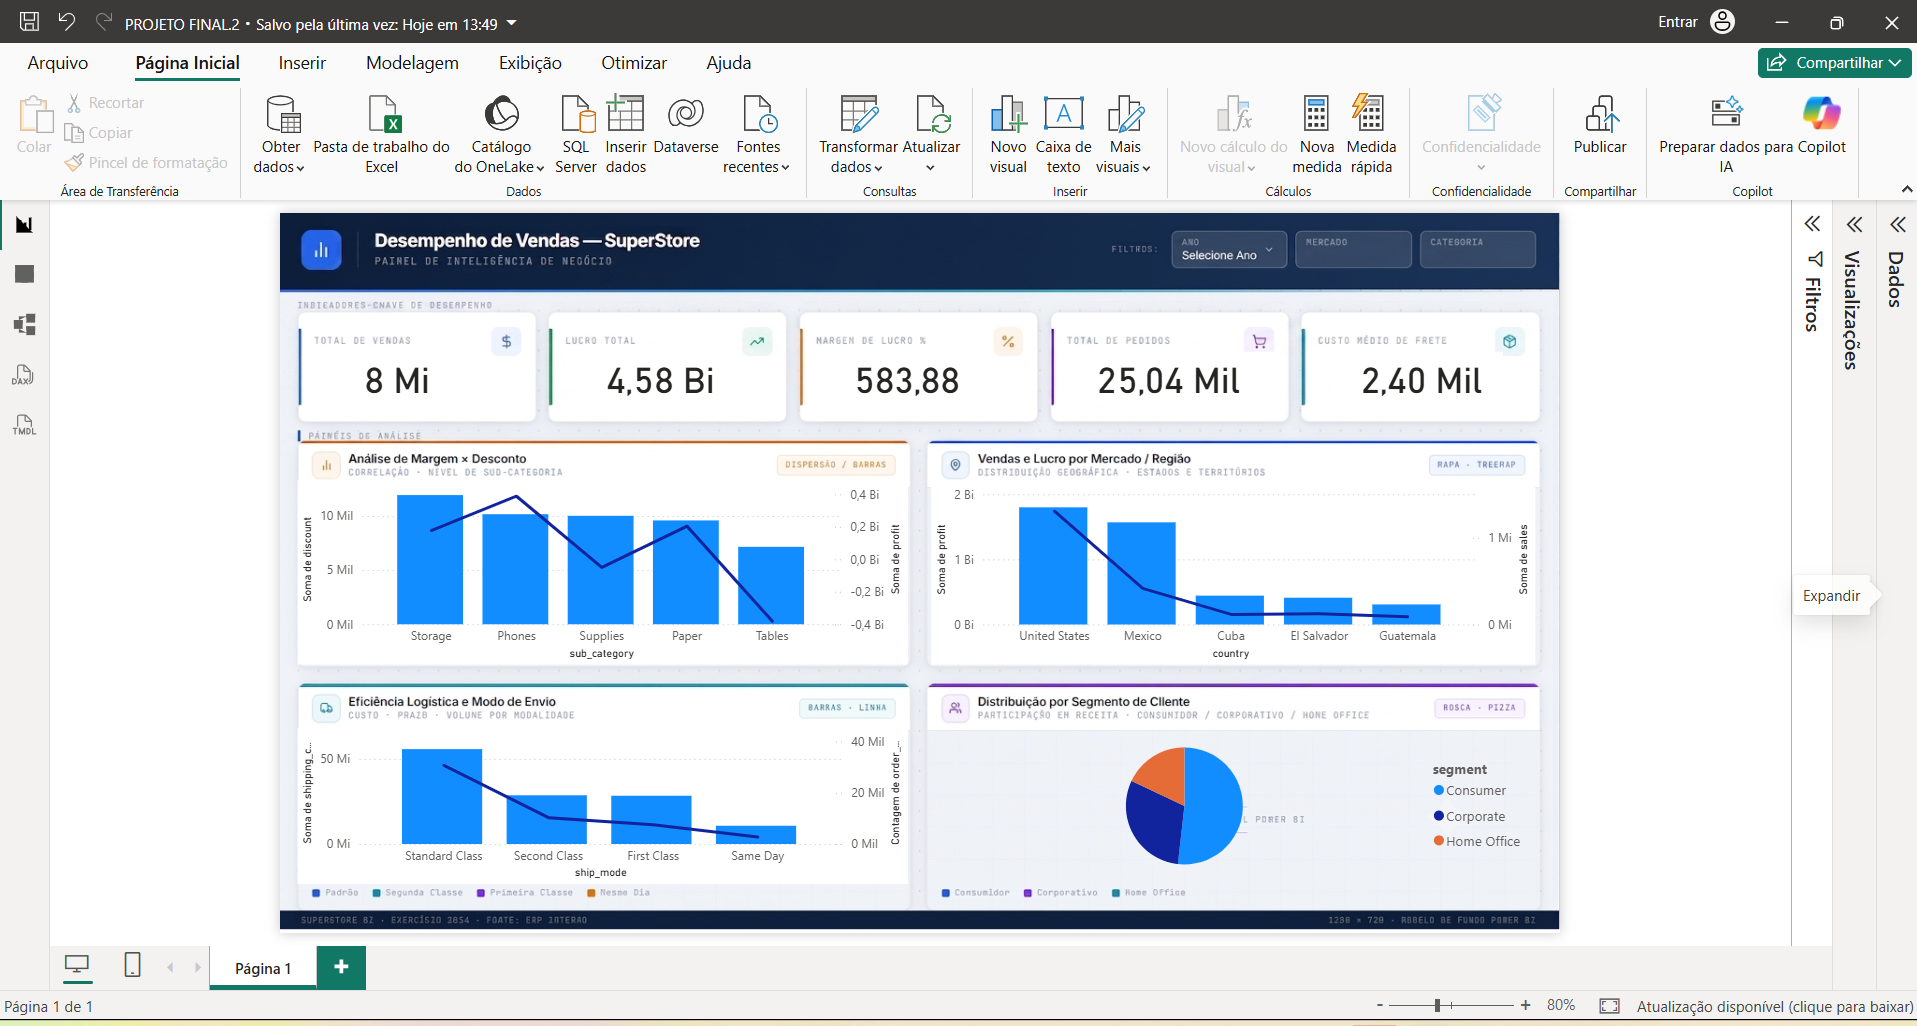

This screenshot's page, from the dashboard's own definition file:
{"tool":"powerbi","page":{"name":"Página 1","canvas":[1280,720],"ordinal":0},"visuals":[{"type":"pieChart","fields":{"Category":["DIM_CLIENTE.segment"],"Y":["Sum(FATO_VENDA.sales)"]},"box":[651.2,515,603.8,156.2],"z":0},{"type":"card","fields":{"Values":["Sum(FATO_VENDA.sales)"]},"box":[27.5,138.8,180,51.2],"z":1000},{"type":"card","fields":{"Values":["Sum(FATO_VENDA.profit)"]},"box":[303.8,138.8,153.8,51.2],"z":2000},{"type":"card","fields":{"Values":["Count(FATO_VENDA.order_id)"]},"box":[782.5,138.8,212.5,51.2],"z":3000},{"type":"card","fields":{"Values":["Avg(FATO_VENDA.shipping_cost)"]},"box":[1061.2,138.8,161.2,51.2],"z":4000},{"type":"card","fields":{"Values":["DIM_CALENDARIO.Margem %"]},"box":[543.8,138.8,166.2,51.2],"z":5000},{"type":"lineStackedColumnComboChart","fields":{"Category":["DIM_PRODUTO.sub_category"],"Y2":["Sum(FATO_VENDA.profit)"],"Y":["Sum(FATO_VENDA.discount)"]},"box":[17.5,267.5,610,183.8],"z":6000},{"type":"lineStackedColumnComboChart","fields":{"Category":["FATO_VENDA.country"],"Y":["Sum(FATO_VENDA.profit)"],"Y2":["Sum(FATO_VENDA.sales)"]},"box":[651,268,604,184],"z":7000},{"type":"lineClusteredColumnComboChart","fields":{"Category":["FATO_VENDA.ship_mode"],"Y":["Sum(FATO_VENDA.shipping_cost)"],"Y2":["CountNonNull(FATO_VENDA.order_id)"]},"box":[18,515,610,156],"z":8000}]}

Visuals, with their boxes on the page's 1280x720 design canvas (x1, y1, x2, y2). These are canvas units, not pixel positions in the 1917x1026 screenshot, which may show the page scaled, cropped or inside an application window:
pieChart - DIM_CLIENTE.segment x Sum(FATO_VENDA.sales): 651,515,1255,671
card - Sum(FATO_VENDA.sales): 28,139,208,190
card - Sum(FATO_VENDA.profit): 304,139,458,190
card - Count(FATO_VENDA.order_id): 782,139,995,190
card - Avg(FATO_VENDA.shipping_cost): 1061,139,1222,190
card - DIM_CALENDARIO.Margem %: 544,139,710,190
lineStackedColumnComboChart - DIM_PRODUTO.sub_category x Sum(FATO_VENDA.profit): 18,268,628,451
lineStackedColumnComboChart - FATO_VENDA.country x Sum(FATO_VENDA.profit): 651,268,1255,452
lineClusteredColumnComboChart - FATO_VENDA.ship_mode x Sum(FATO_VENDA.shipping_cost): 18,515,628,671
